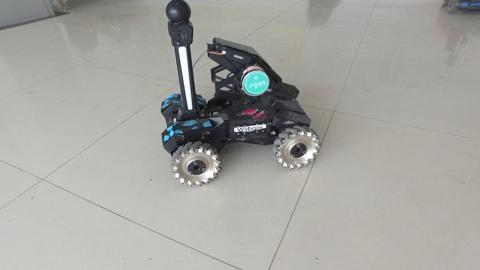chariot: (158, 1, 322, 188)
